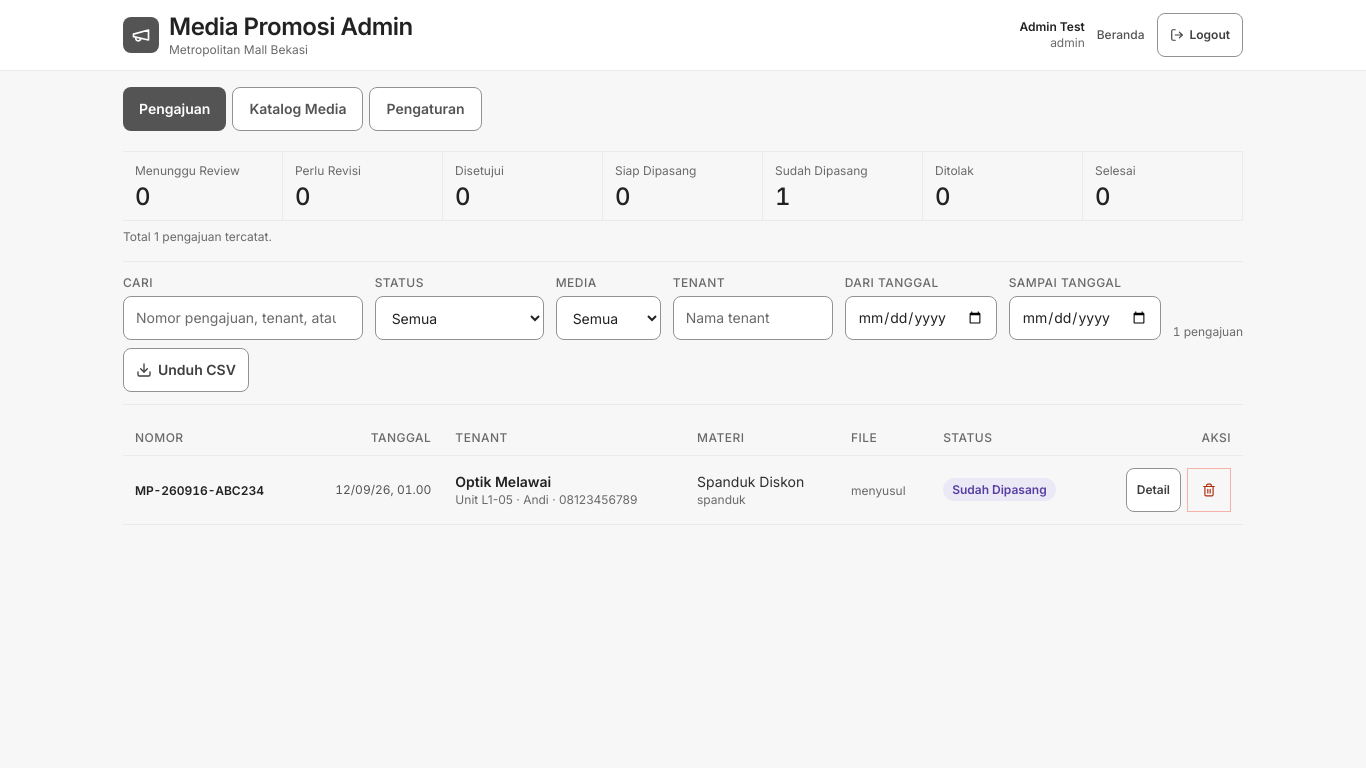
Test case: AdminDashboardPage - isi deskripsi form admin › Ketentuan menjelaskan isinya tampil ke tenant di katalog publik
Expected: the text "Optik Melawai" is shown, [455,472,551,490]
Step 1. Click the tab "Katalog Media" → (298, 109), box [232,87,363,131]
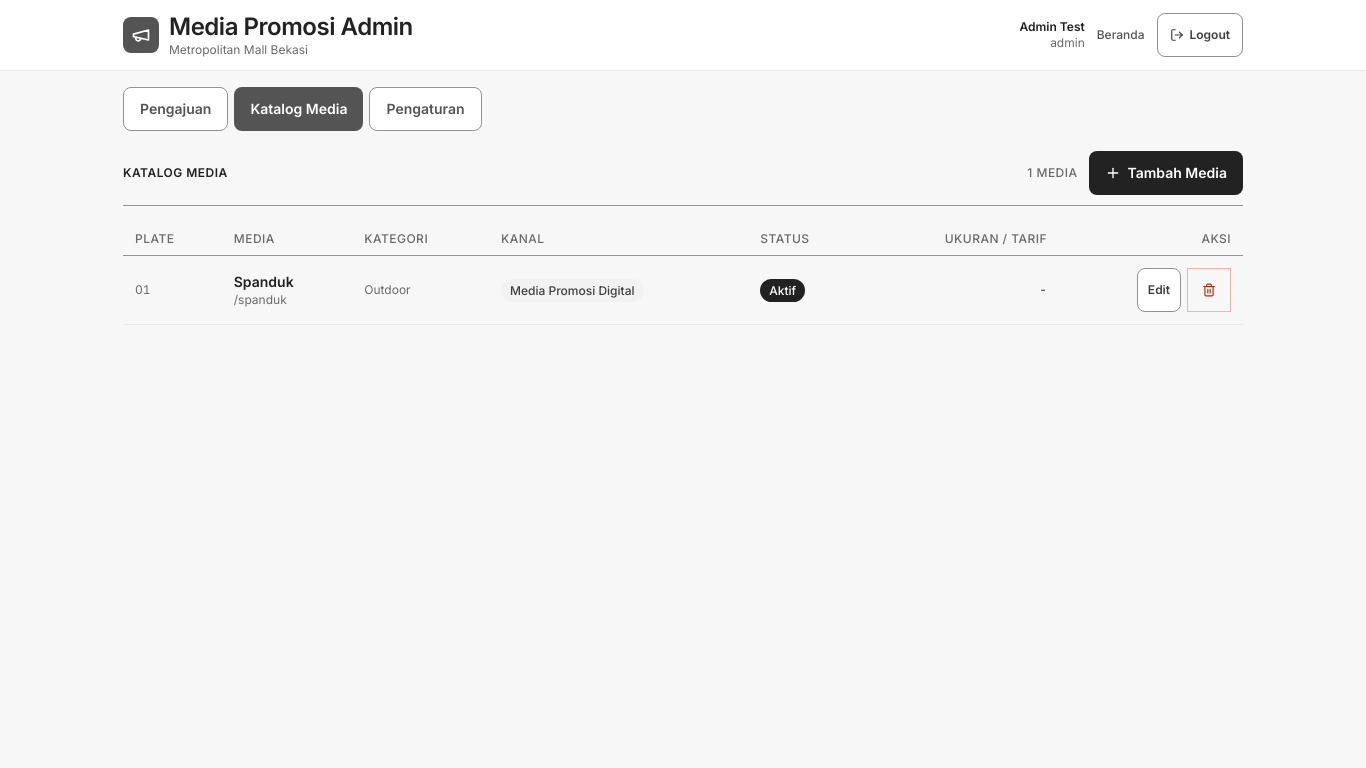
Step 2. Click the button "Edit" → (1159, 290), box [1137,268,1181,312]
(page scrolled)
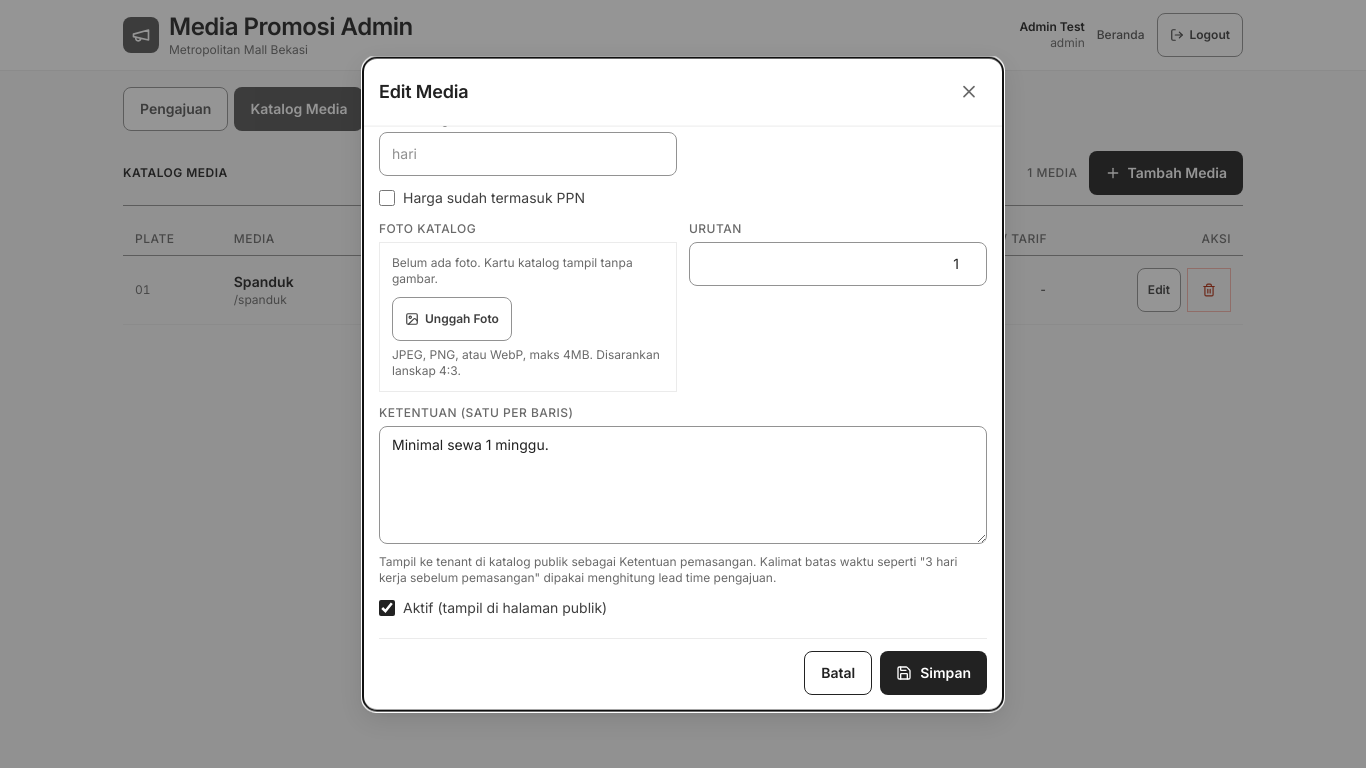
Expected: the text with id "cf-rules-hint" is shown, [379,554,987,586]
Expected: the text with id "cf-rules-hint" shows "katalog publik", [379,554,958,585]
